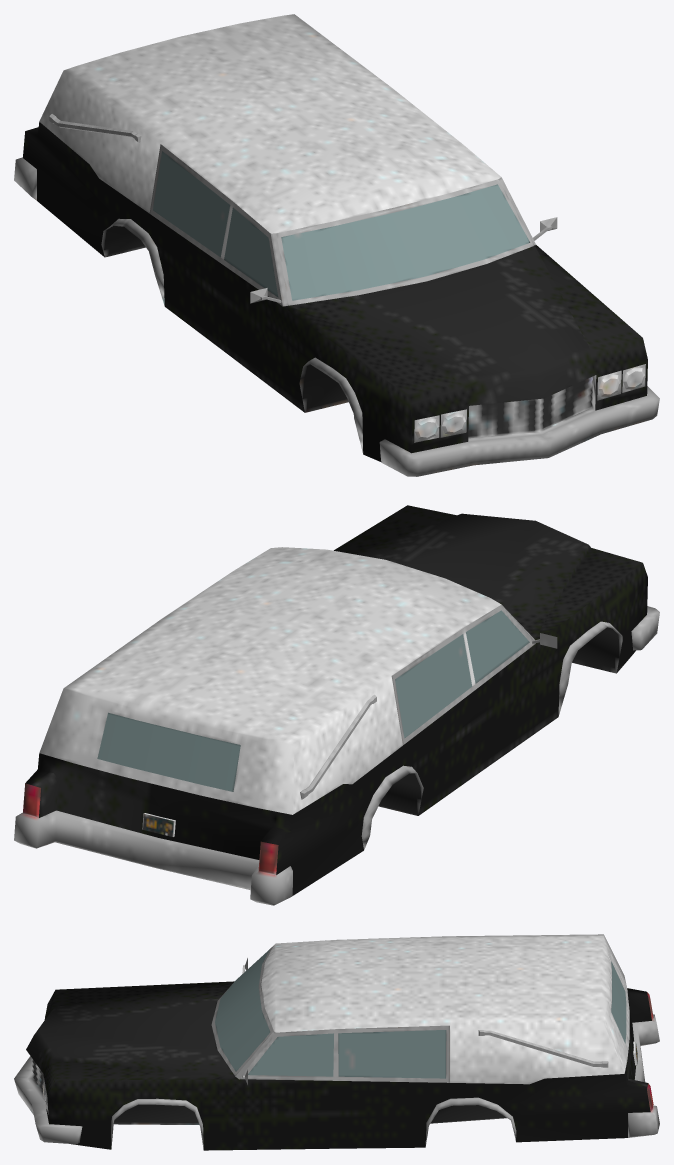
The model's file is cadillac hearse.fbx.
3 views of the same model, one above another, from view 1: azimuth 30°, elevation 25°; view 2: azimuth 150°, elevation 25°; view 3: azimuth 270°, elevation 25° (orthographic). The views are drawn at different scales.
Visible parts, largest first — view 1: cadillac hearse; view 2: cadillac hearse; view 3: cadillac hearse.
Part boxes in pixels (box(x1,y1,x2,y2)): cadillac hearse: box(14, 14, 659, 476); cadillac hearse: box(14, 505, 659, 905); cadillac hearse: box(14, 934, 659, 1150).
Bounding box in the file's own units: 3.32 × 1.71 × 7.63.
